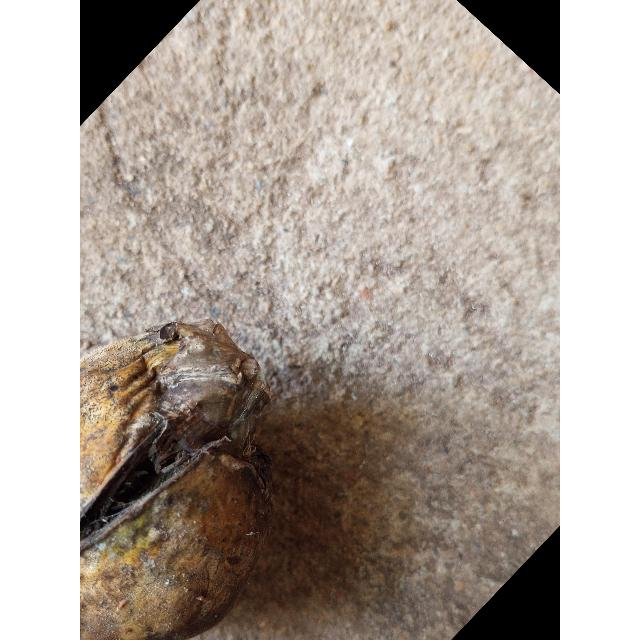damaged: (80, 320, 273, 640)
